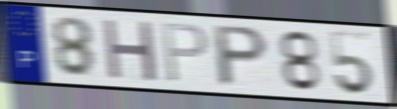5: (328, 28, 376, 98)
8: (49, 16, 97, 78), (277, 29, 322, 93)
H: (101, 16, 160, 84)
P: (213, 23, 271, 88), (161, 21, 211, 85)
